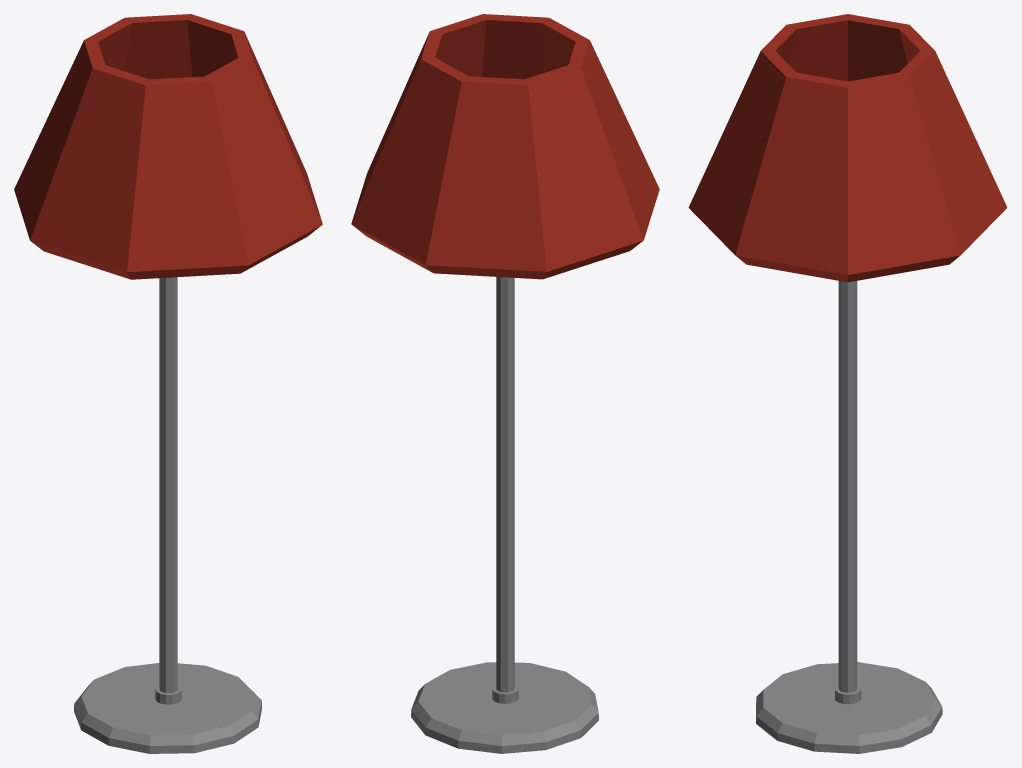
File: light.gltf
3 renders of one model, left to right at view 1: azimuth 30°, elevation 25°; view 2: azimuth 150°, elevation 25°; view 3: azimuth 270°, elevation 25°, orthographic.
Parts seen in each view (by area): view 1: Lamp A; view 2: Lamp A; view 3: Lamp A.
Part boxes in pixels (box(x1,y1,x2,y2)): Lamp A: box(14, 14, 322, 753); Lamp A: box(351, 14, 659, 753); Lamp A: box(688, 14, 1007, 753).
Bounding box in the file's own units: 3.65 × 8.39 × 3.65.
